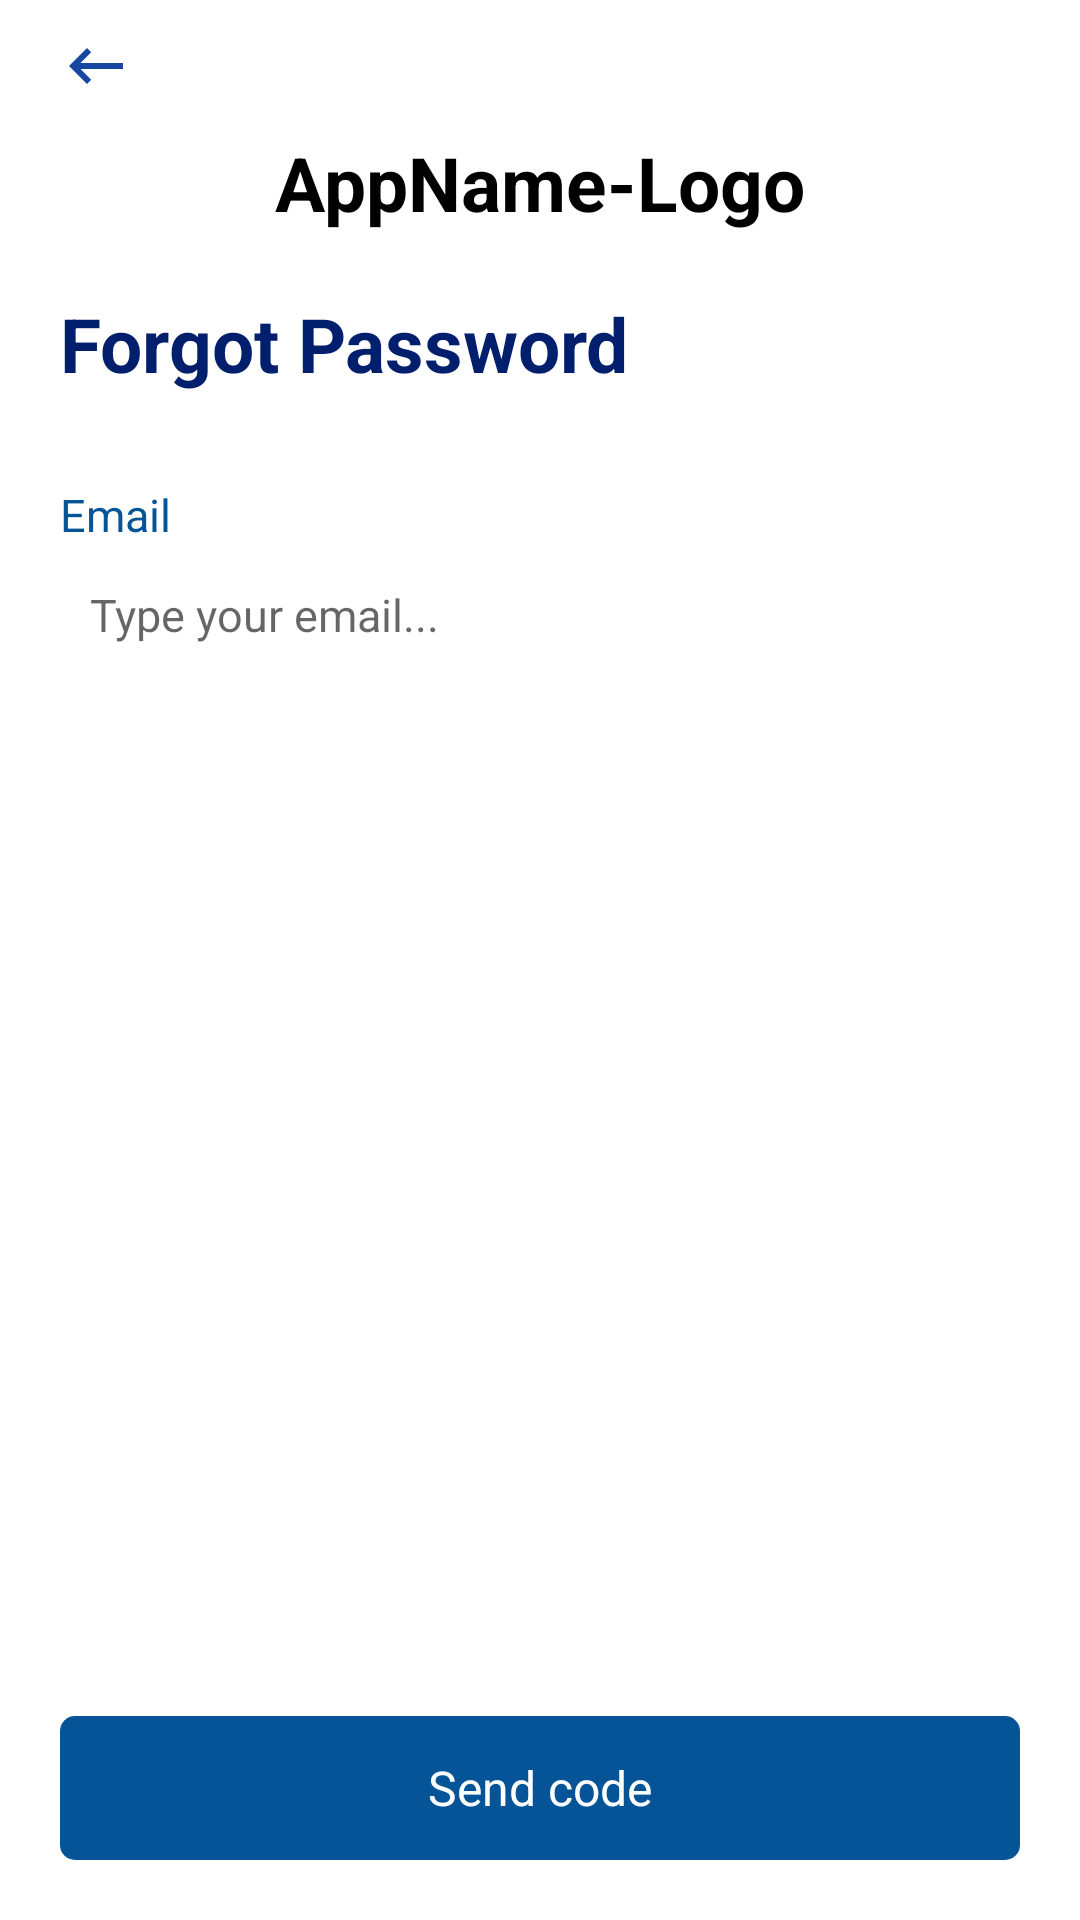

Screen size 1080×1920. Icon name, then its center in pixels as (x,y):
back: (96,66)
